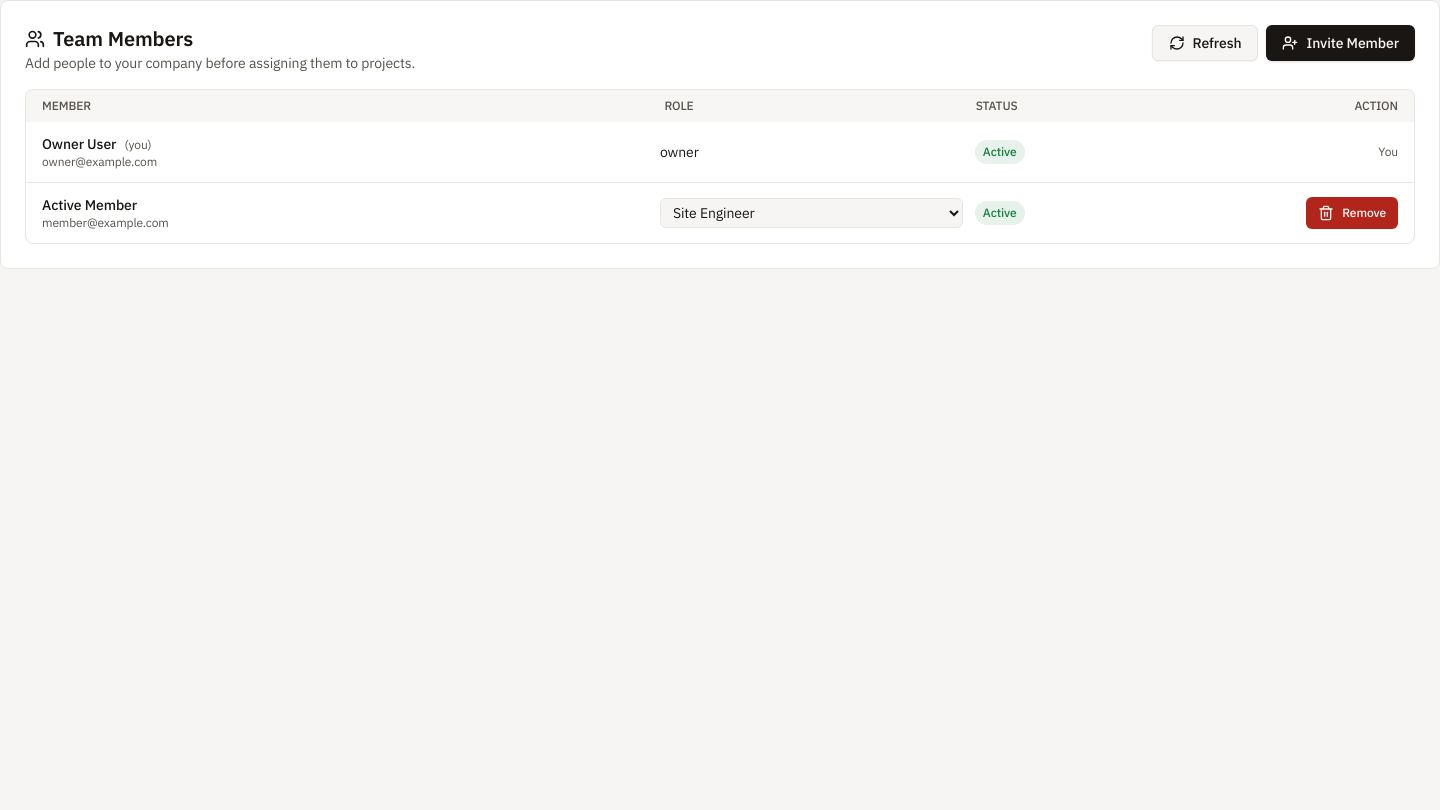
it: CompanyTeamMembersSection › removes an active member and leaves protected rows without remove buttons
Expected: the text "Owner User" is shown, [42, 135, 116, 153]
Expected: the text "You" is shown, [1378, 144, 1398, 160]
Click the button "Remove" at (1352, 213), box [1306, 197, 1398, 229]
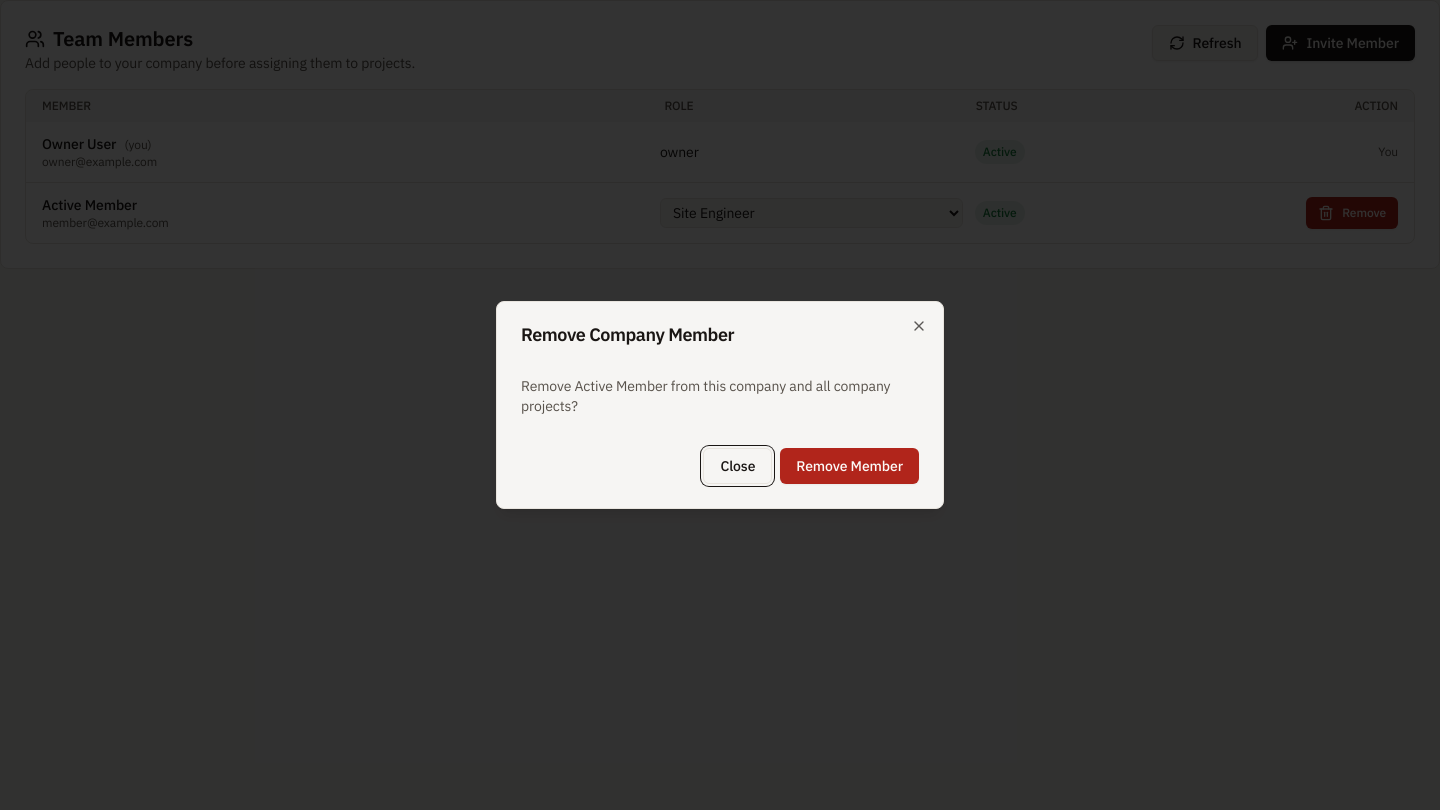
Expected: the heading "Remove Company Member" is shown, [521, 323, 734, 346]
Click the button "Remove Member" at (850, 466), box [780, 448, 919, 484]
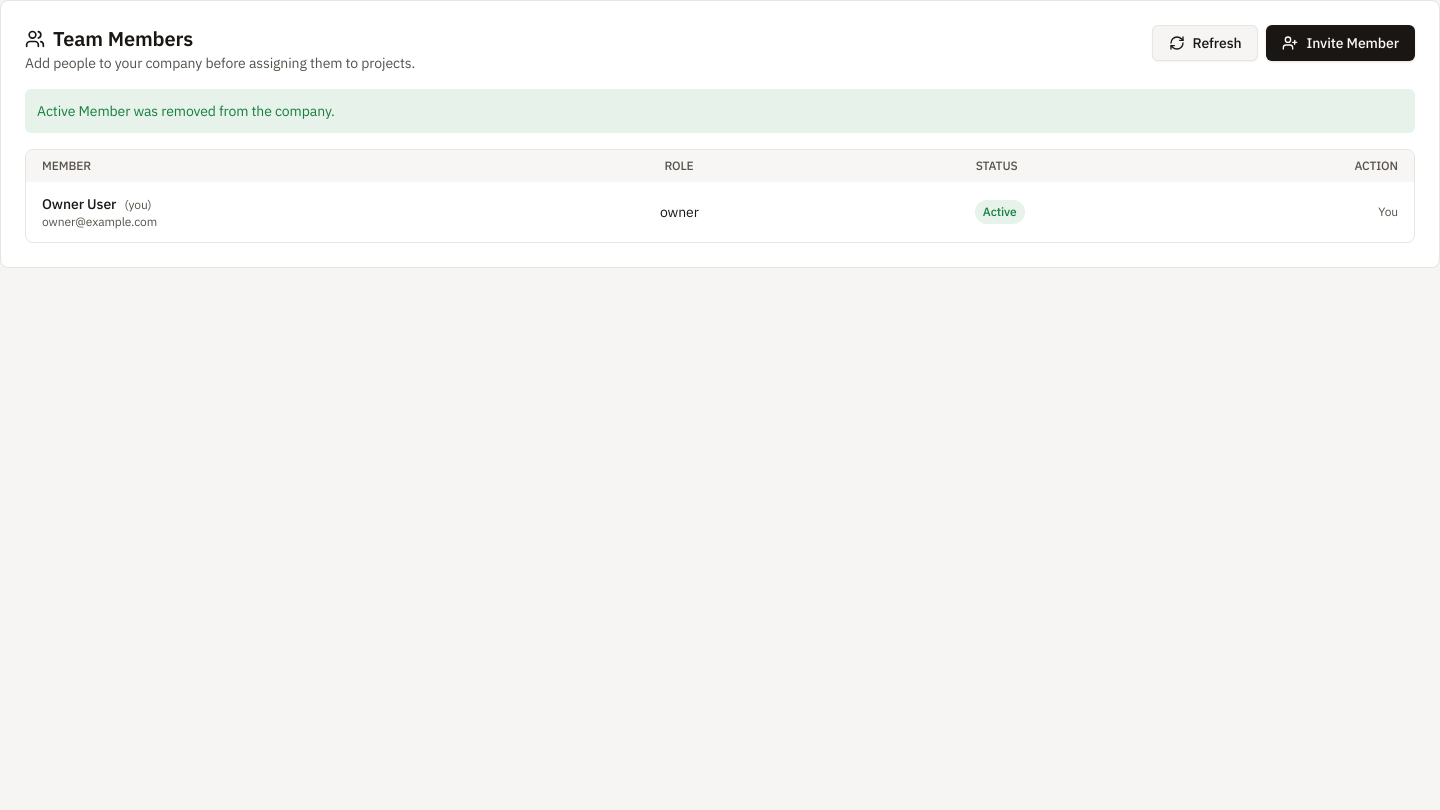
Expected: the text "Active Member was removed from the company." is shown, [25, 89, 1415, 133]
